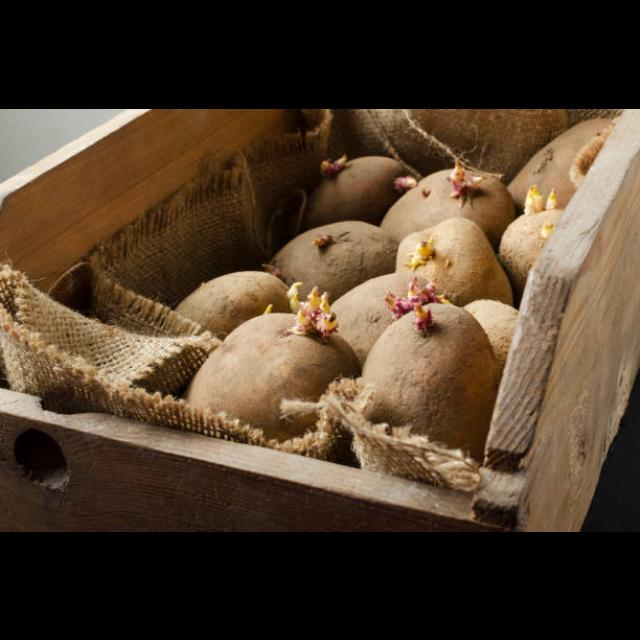Sprouted potato: (332, 291, 514, 499), (180, 289, 366, 456), (386, 211, 514, 329), (262, 215, 416, 301)
